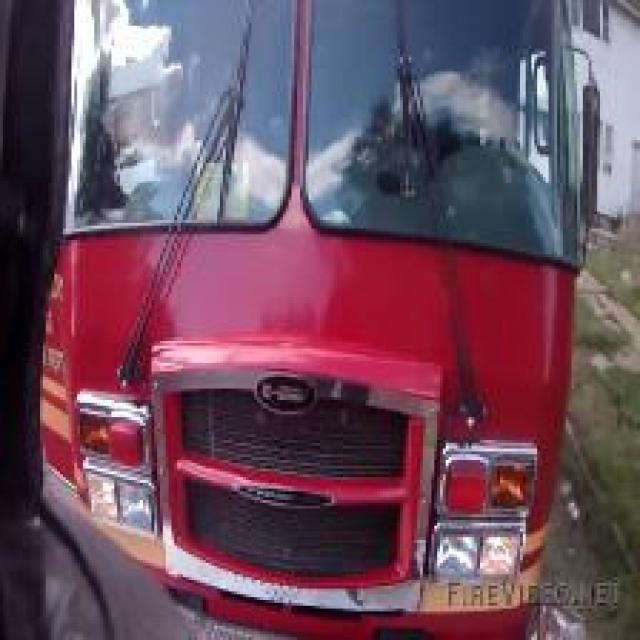other: (68, 230, 559, 632)
